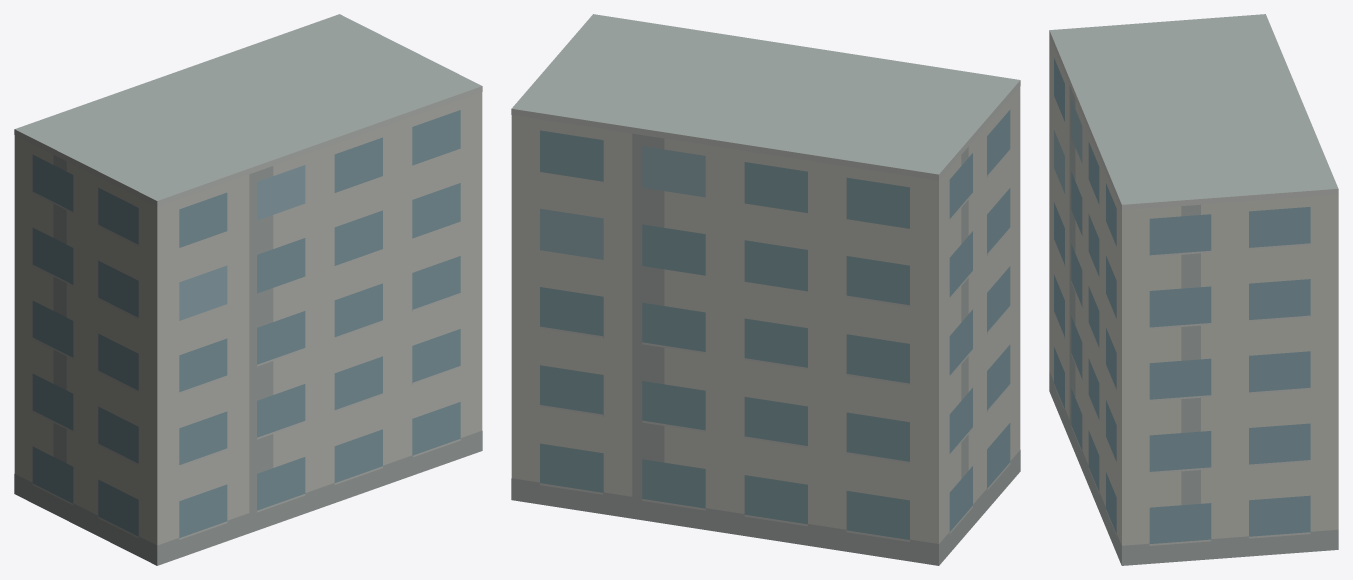
The model's file is residential-073dc22c-d627-4c4d-8801-3b9e482a7231.glb.
3 views of the same model, side by side, from view 1: azimuth 30°, elevation 25°; view 2: azimuth 150°, elevation 25°; view 3: azimuth 270°, elevation 25° (orthographic). The views are drawn at different scales.
Visible parts, largest first — view 1: residential-073dc22c-d627-4c4d-8801-3b9e482a7231.tmp; view 2: residential-073dc22c-d627-4c4d-8801-3b9e482a7231.tmp; view 3: residential-073dc22c-d627-4c4d-8801-3b9e482a7231.tmp.
Part boxes in pixels (x1,y1,x2,y2): residential-073dc22c-d627-4c4d-8801-3b9e482a7231.tmp: [14, 14, 482, 565]; residential-073dc22c-d627-4c4d-8801-3b9e482a7231.tmp: [511, 14, 1020, 565]; residential-073dc22c-d627-4c4d-8801-3b9e482a7231.tmp: [1049, 14, 1338, 565].
Bounding box in the file's own units: 17.29 × 15.25 × 11.08.
